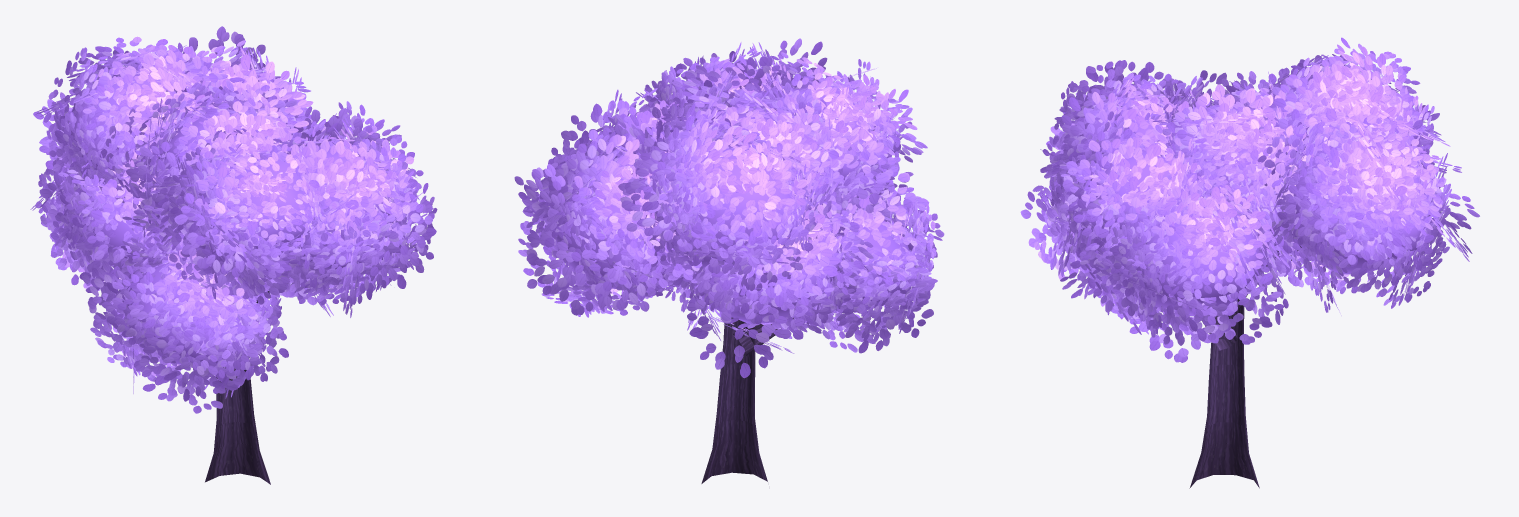
The model's file is tree_elderwood.glb.
The picture shows the model from 3 angles, left to right: view 1: azimuth 30°, elevation 25°; view 2: azimuth 150°, elevation 25°; view 3: azimuth 270°, elevation 25°; orthographic projection.
Parts seen in each view (by area): view 1: tree_elderwood, tree_elderwood_bark_Elderwood; view 2: tree_elderwood, tree_elderwood_bark_Elderwood; view 3: tree_elderwood, tree_elderwood_bark_Elderwood.
Part boxes in pixels (x1,y1,x2,y2): tree_elderwood: (30,26,437,413); tree_elderwood_bark_Elderwood: (205,291,270,484); tree_elderwood: (514,38,944,378); tree_elderwood_bark_Elderwood: (701,317,793,483); tree_elderwood: (1020,37,1479,362); tree_elderwood_bark_Elderwood: (1189,245,1301,488).
Size of the model in its own units: 8.55 by 9.15 by 9.41.
Materials: 3 (2 with a texture image).
